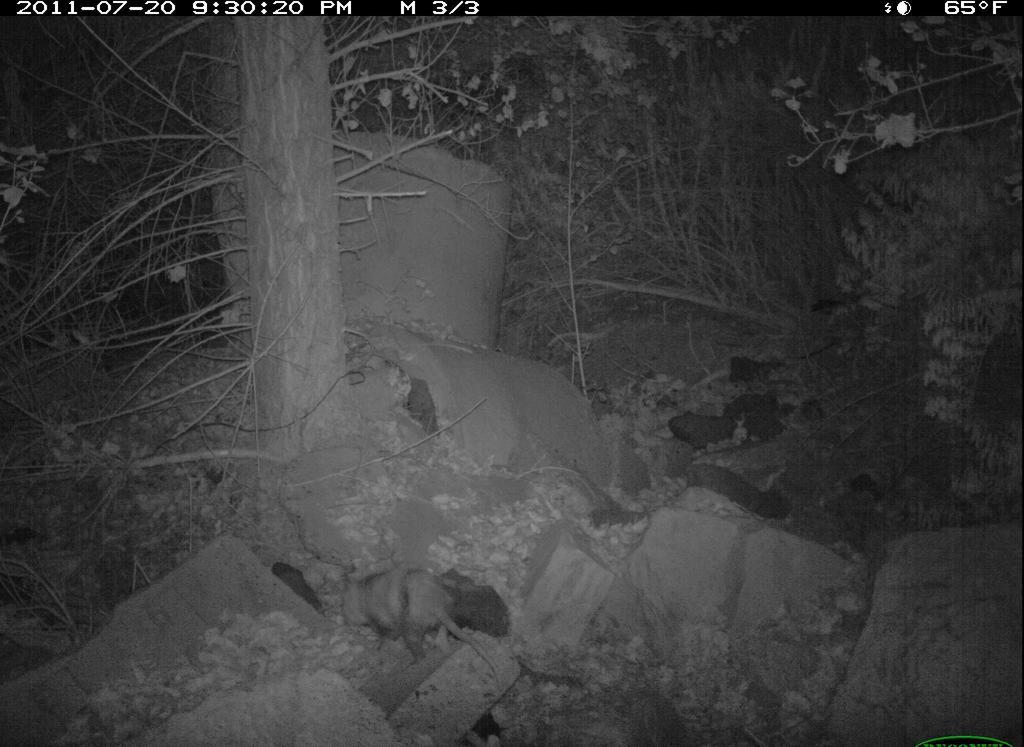opossum: (319, 557, 519, 696)
